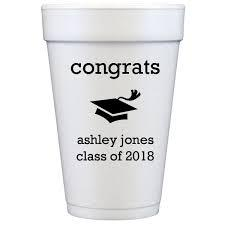Plastic cup: (35, 4, 201, 225)
